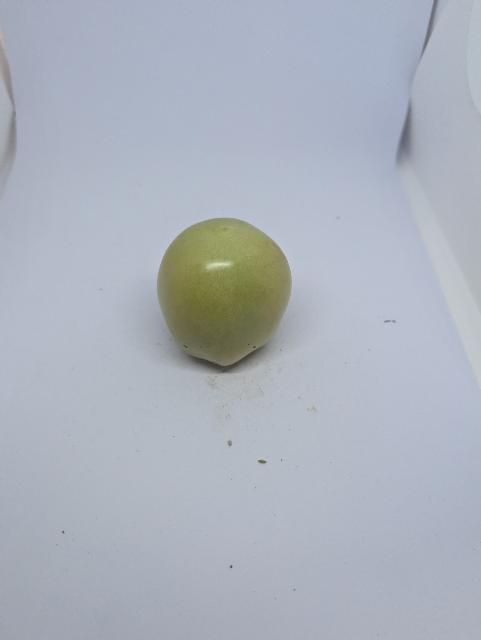green: (156, 216, 294, 369)
